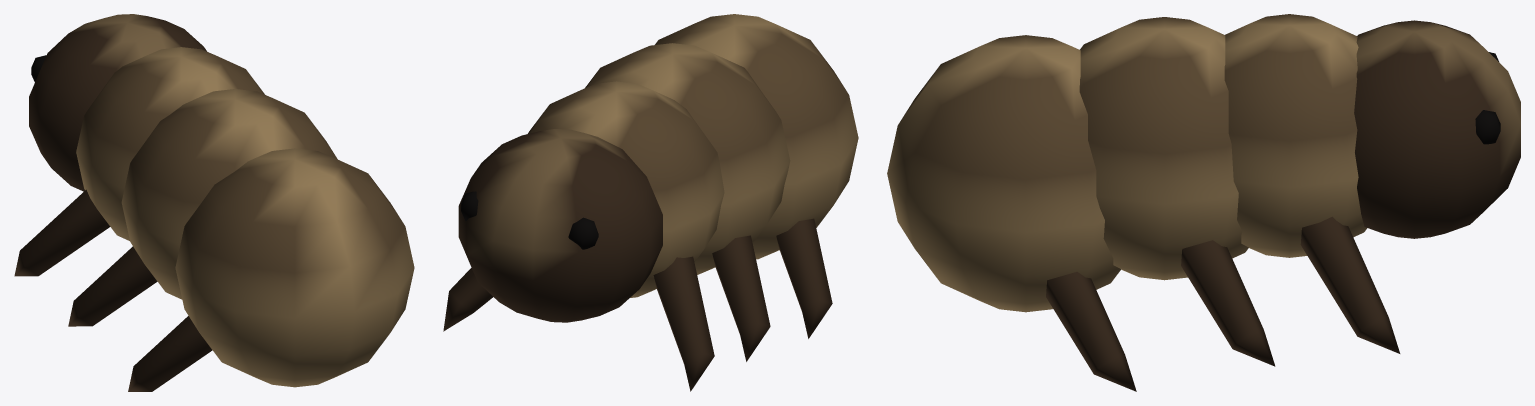
Rendered from Minomushi_Larva.fbx.
3 views of the same model, side by side, from view 1: azimuth 30°, elevation 25°; view 2: azimuth 150°, elevation 25°; view 3: azimuth 270°, elevation 25° (orthographic). The views are drawn at different scales.
Visible parts, largest first — view 1: Minomushi_Larva; view 2: Minomushi_Larva; view 3: Minomushi_Larva.
Boxes of the visible parts, bbox=[...] form: Minomushi_Larva: bbox=[14, 14, 414, 391]; Minomushi_Larva: bbox=[443, 14, 858, 391]; Minomushi_Larva: bbox=[887, 14, 1520, 391].
Bounding box in the file's own units: 0.2429 × 0.238 × 0.4568.
